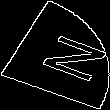N_NW: (14, 26, 96, 84)
